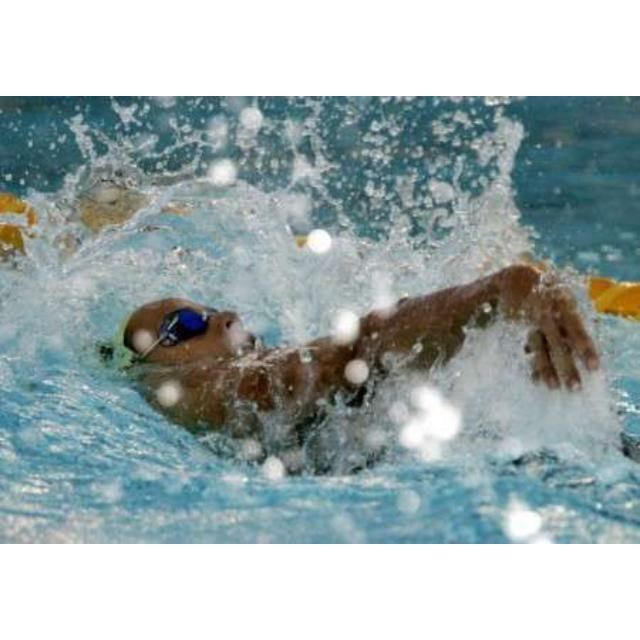human: (108, 258, 601, 471)
